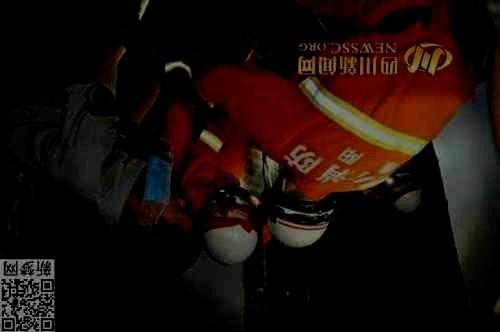helmet: (201, 186, 260, 264), (268, 183, 334, 248)
